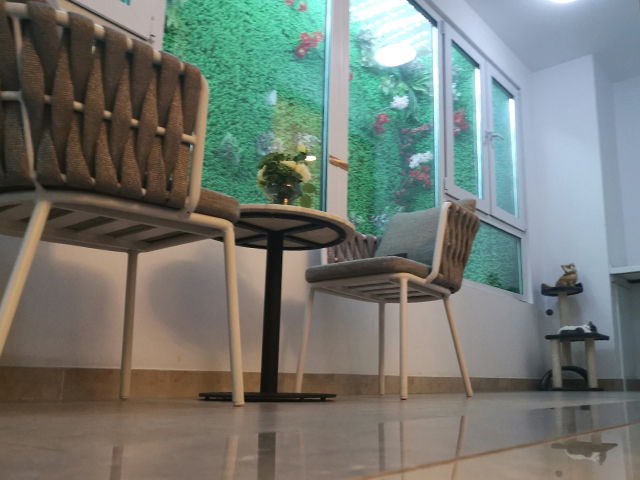stool: (1, 1, 244, 407), (292, 195, 483, 403), (536, 281, 592, 390), (544, 327, 611, 391)
table: (196, 202, 356, 404)
